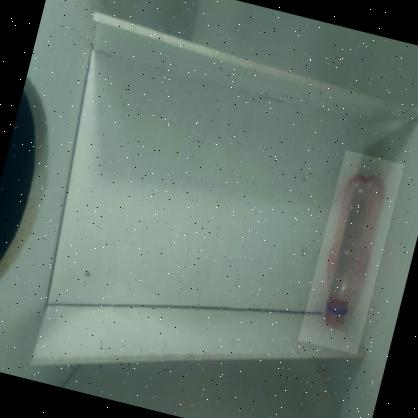bottle: (298, 150, 404, 355)
